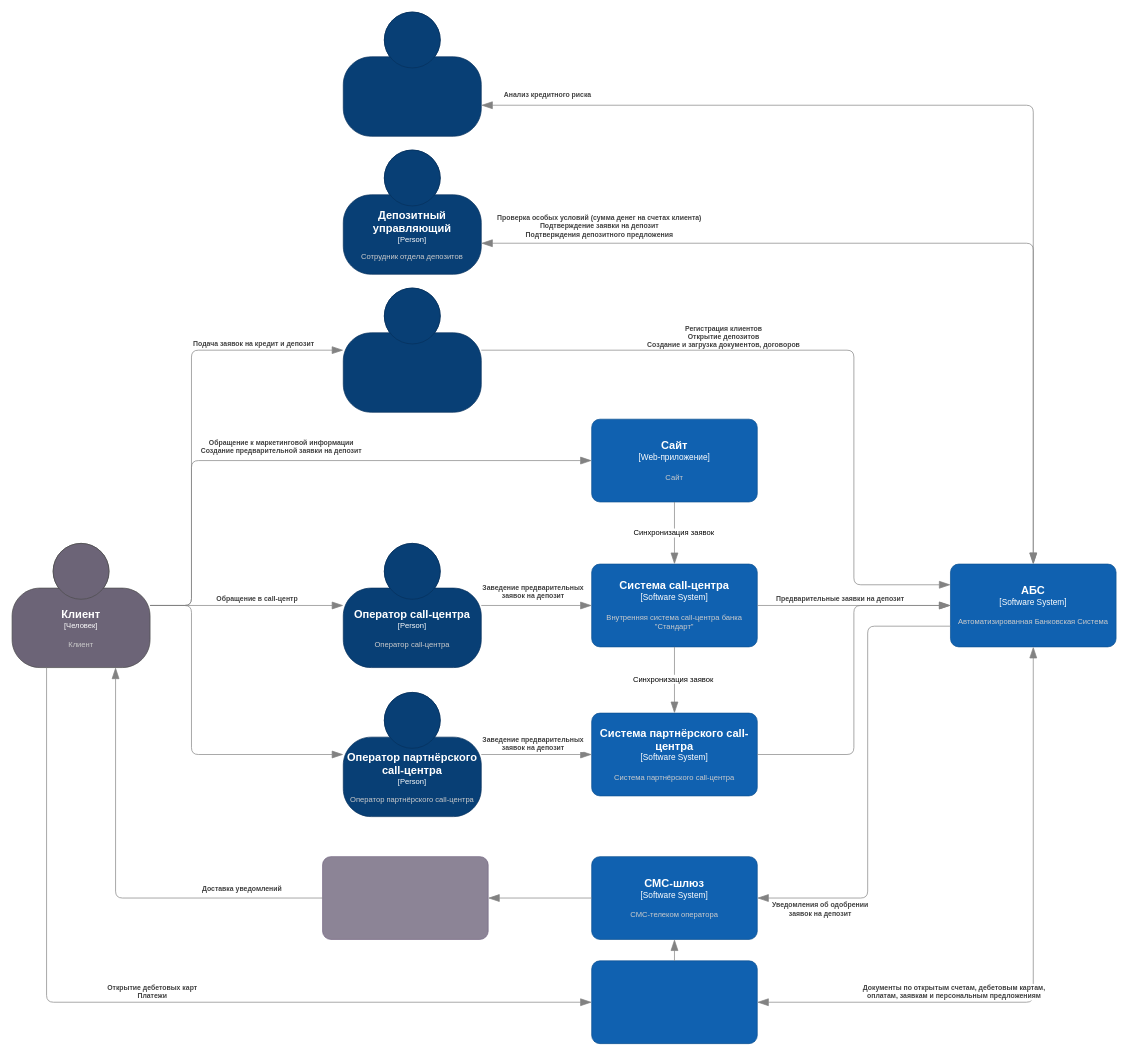
The diagram is 1128 pixels wide and 1056 high, and some of its shapes have lost their labels. Each missing label, with the centre of its shape:
Интернет-банк [Web-приложение] Web-приложение Интернет Банк: point (674, 1002)
Кредитный управляющий [Person] Сотрудник отдела кредитов: point (412, 73)
Специалист клиентского офиса [Человек] Сотрудник отдела обслуживания клиентов: point (412, 349)
Телеком-оператор [Software System] Система телеком-оператора: point (405, 897)
